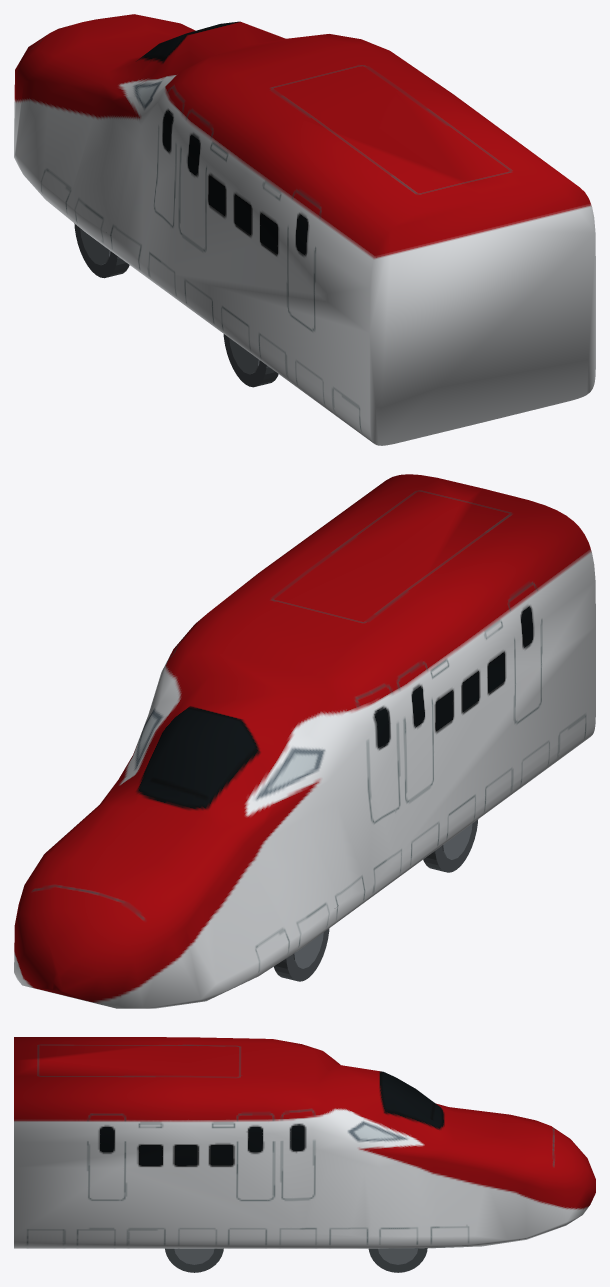
The model's file is Express_Red.fbx.
3 renders of one model, top to bottom at view 1: azimuth 30°, elevation 25°; view 2: azimuth 150°, elevation 25°; view 3: azimuth 270°, elevation 25°, orthographic. The views are drawn at different scales.
Parts seen in each view (by area): view 1: ER_Lead_Atlas shell, Static fittings EG wheel graphite.001, Static fittings EG hub grey.001; view 2: ER_Lead_Atlas shell, Static fittings EG wheel graphite.001, Static fittings EG hub grey.001; view 3: ER_Lead_Atlas shell, Static fittings EG wheel graphite.001, Static fittings EG hub grey.001.
Boxes of the visible parts, left/top/right/bottom form: ER_Lead_Atlas shell: left=14, top=14, right=595, bottom=445; Static fittings EG wheel graphite.001: left=74, top=223, right=278, bottom=387; Static fittings EG hub grey.001: left=80, top=228, right=259, bottom=374; ER_Lead_Atlas shell: left=14, top=474, right=595, bottom=1008; Static fittings EG wheel graphite.001: left=274, top=819, right=478, bottom=981; Static fittings EG hub grey.001: left=293, top=824, right=472, bottom=968; ER_Lead_Atlas shell: left=14, top=1037, right=595, bottom=1248; Static fittings EG wheel graphite.001: left=165, top=1248, right=427, bottom=1272; Static fittings EG hub grey.001: left=174, top=1248, right=418, bottom=1264.
Bounding box in the file's own units: 107 × 117 × 347.
Materials: 3 (1 with a texture image).
